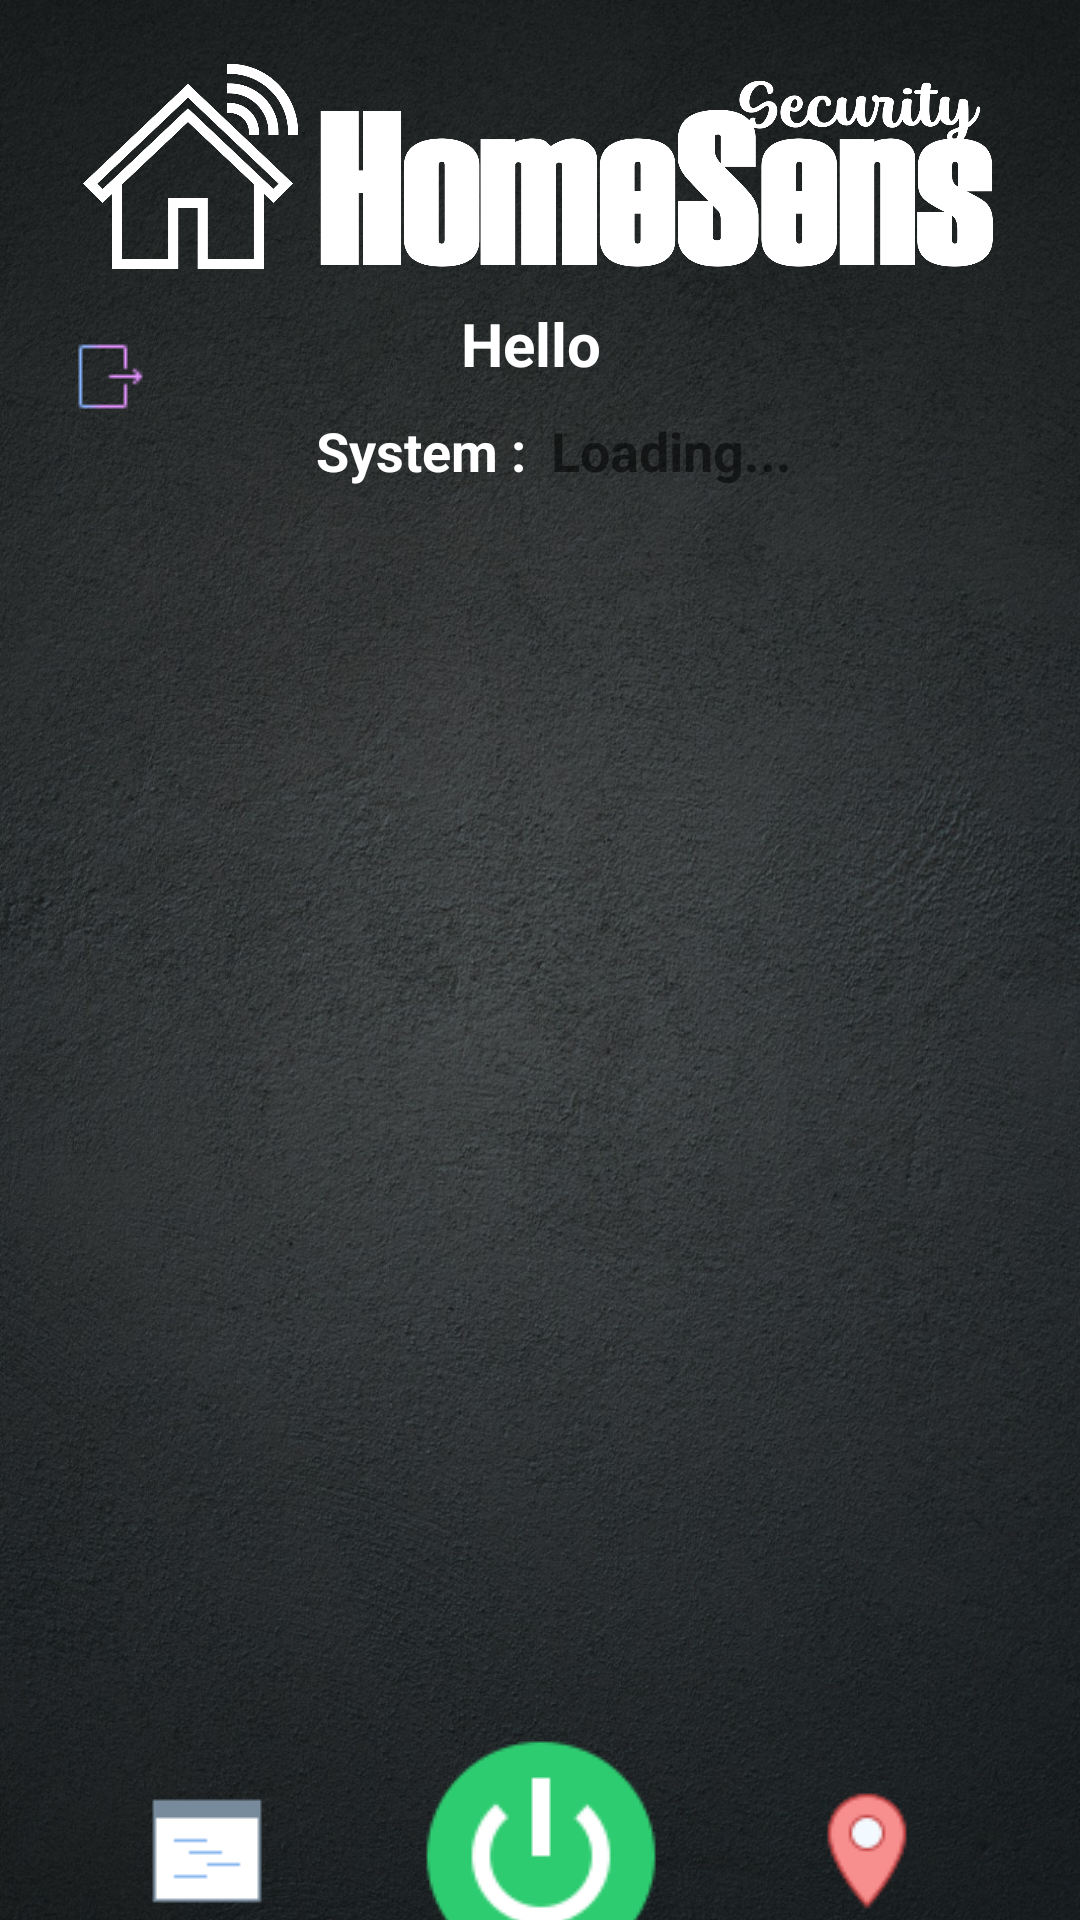

Icons on this 1080 x 1920 Android screen, each with the point to tap as [x,y]:
signout: [110,376]
